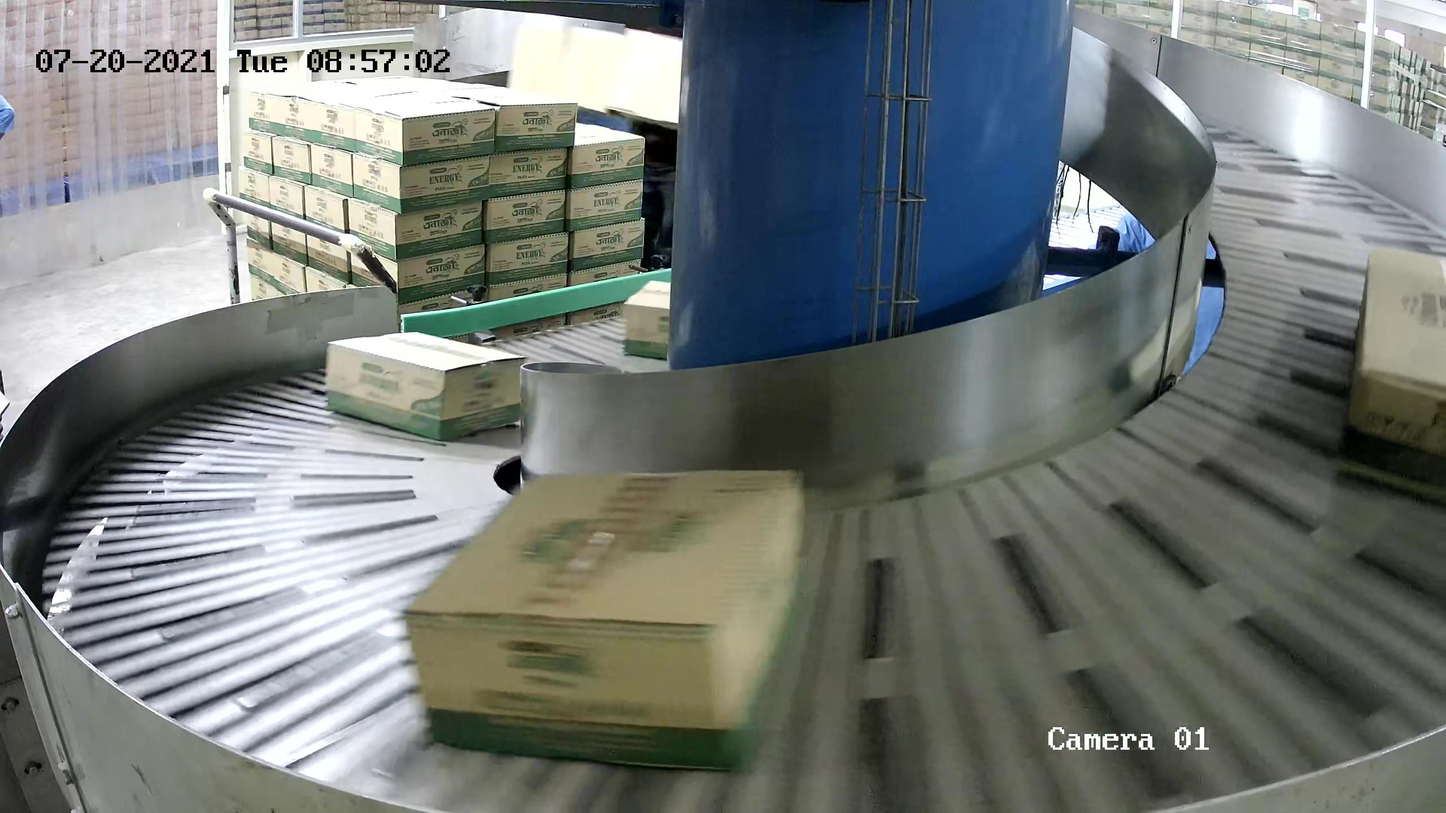Box: (398, 464, 809, 774), (1336, 244, 1446, 505), (324, 330, 530, 442), (622, 279, 672, 360)
